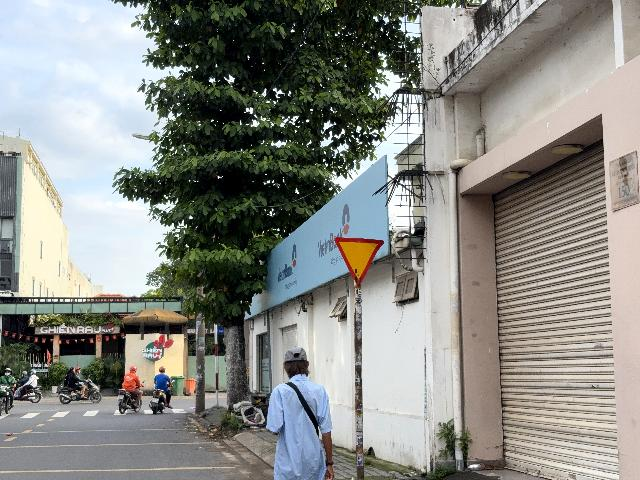giao-nhau-voi-duong-uu-tien: (334, 237, 385, 285)
